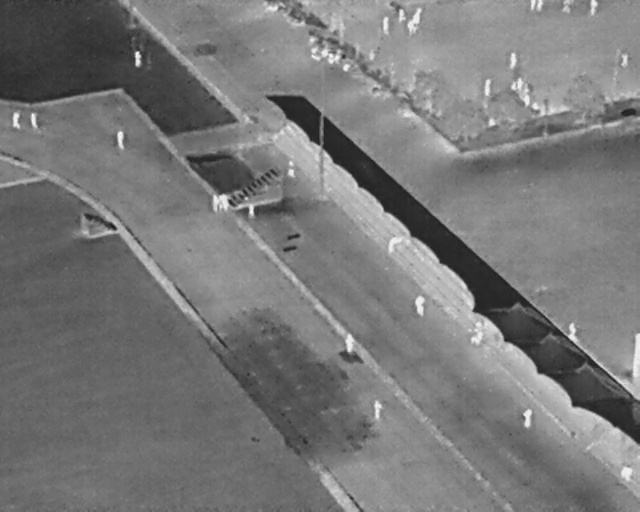DontCare: (307, 35, 352, 74), (510, 76, 545, 111)
Person: (471, 323, 485, 345), (414, 295, 426, 316), (523, 408, 533, 428), (373, 400, 383, 419), (568, 323, 578, 342), (29, 112, 39, 130), (345, 334, 354, 354), (12, 112, 22, 129), (413, 7, 422, 25), (509, 52, 518, 69), (287, 159, 295, 178), (116, 131, 124, 149), (621, 53, 630, 69), (382, 16, 389, 36), (590, 0, 598, 17), (223, 193, 230, 212), (212, 194, 219, 212), (484, 79, 491, 97), (247, 203, 255, 218), (134, 50, 141, 67), (398, 9, 406, 23), (408, 20, 414, 38), (536, 0, 544, 12), (218, 195, 223, 212), (529, 0, 535, 12)
